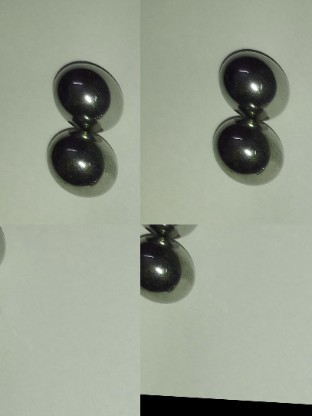ironball: (47, 126, 127, 201), (54, 56, 130, 132), (207, 118, 289, 186), (219, 45, 290, 119), (142, 232, 196, 303)
